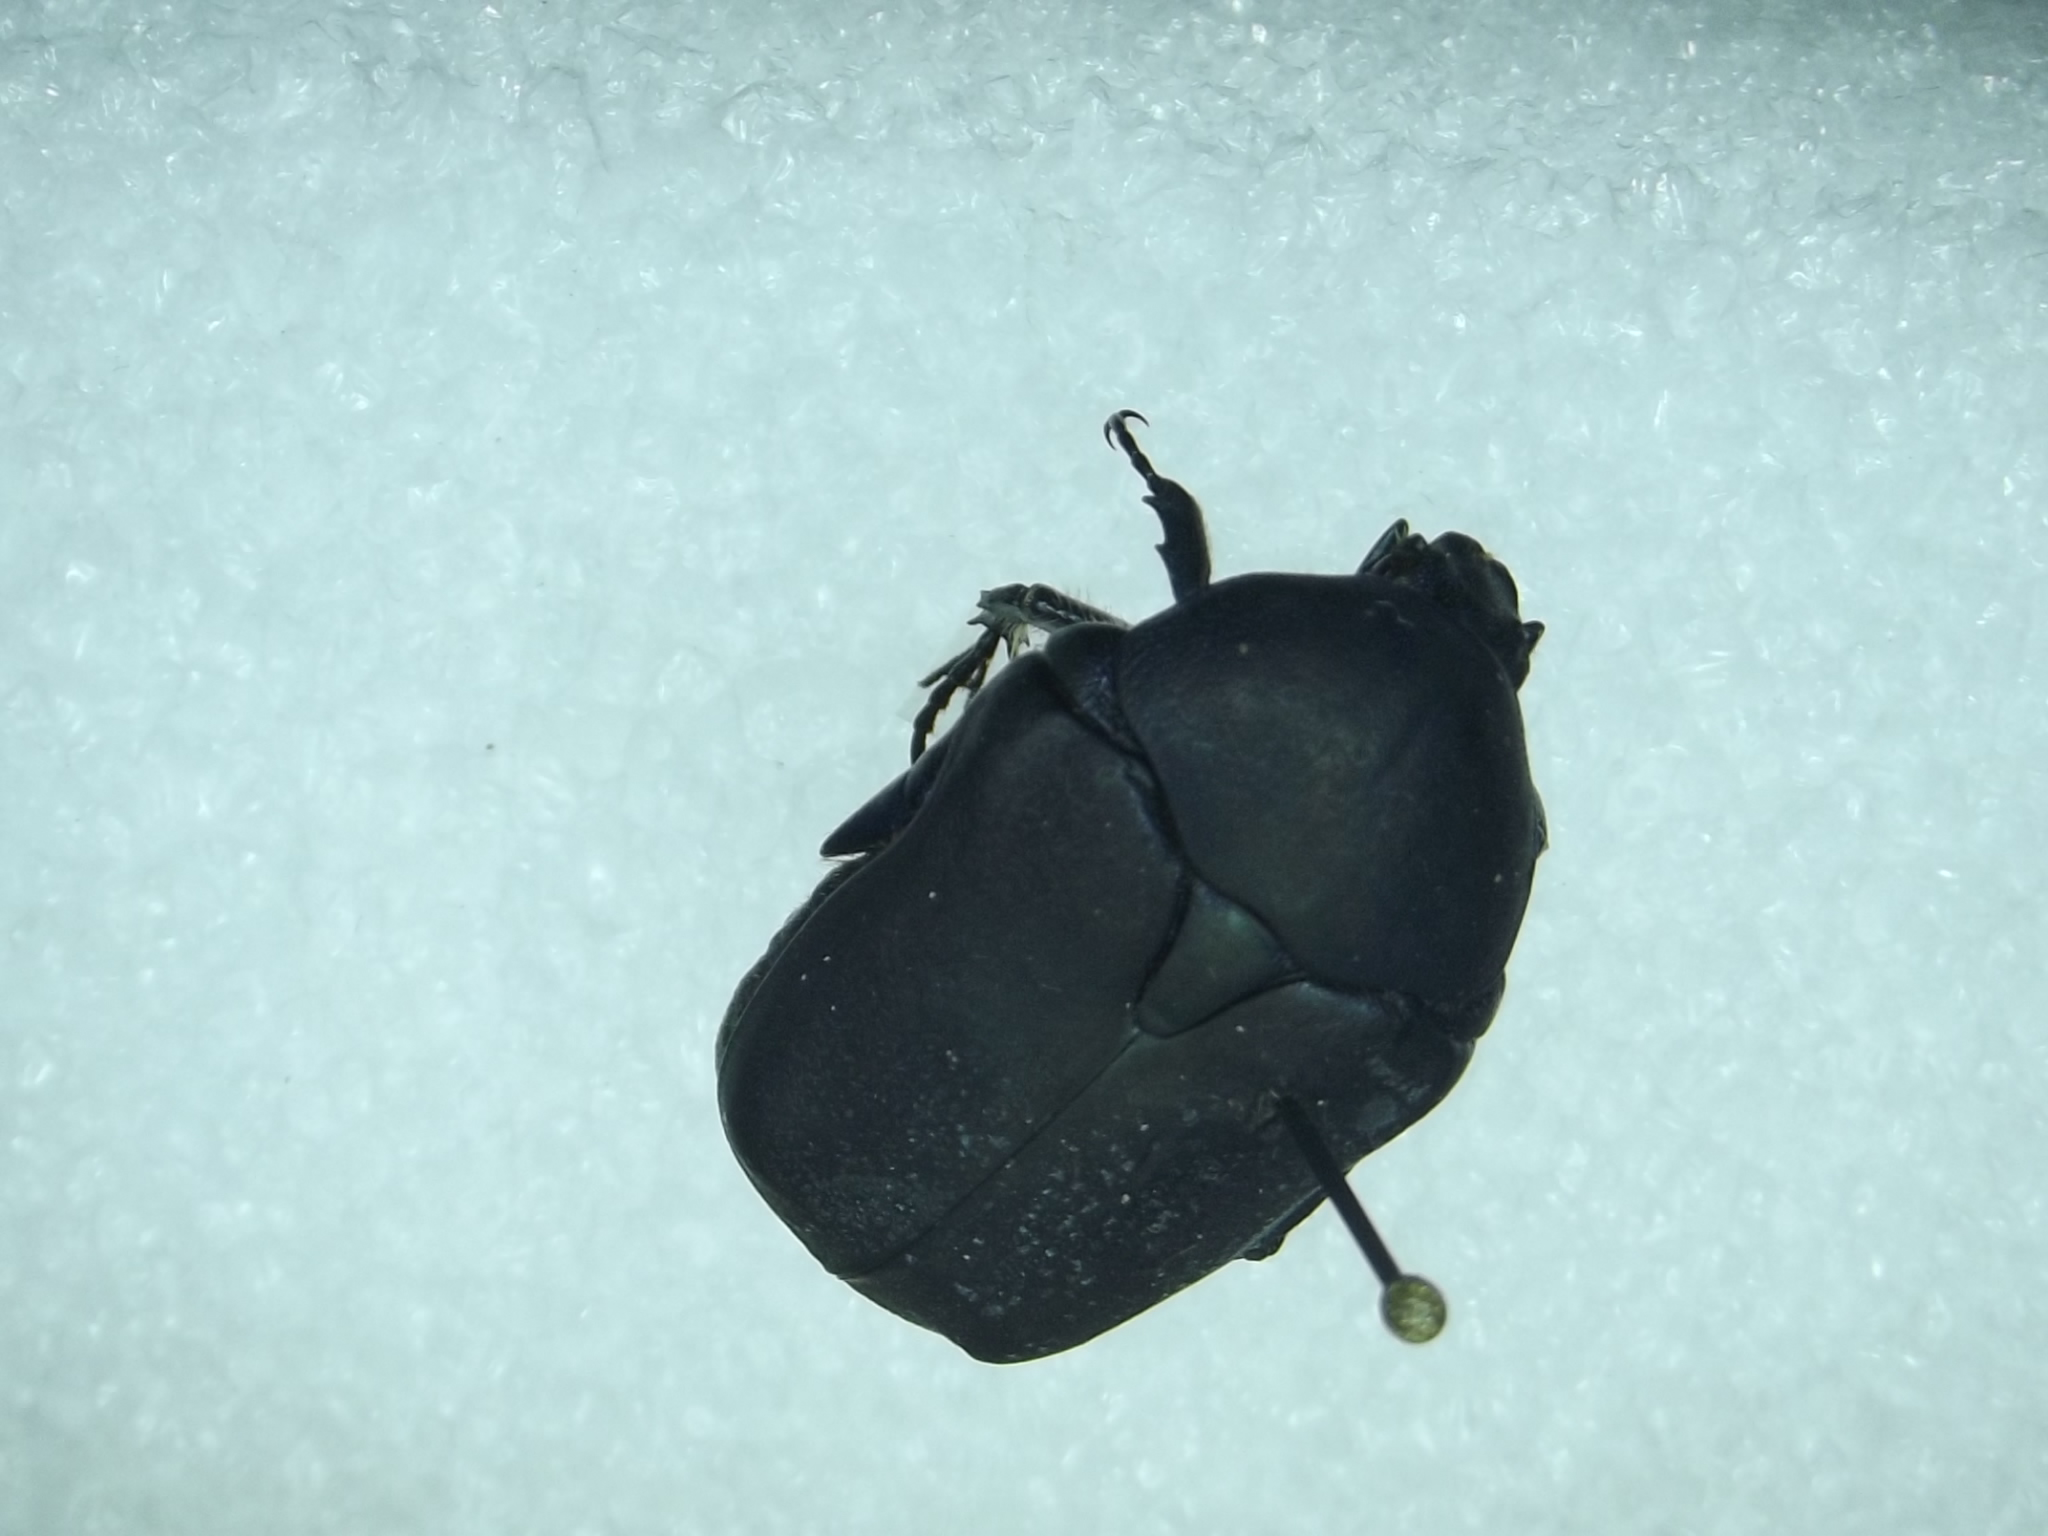Protaetia_afflicta: (713, 403, 1566, 1367)
